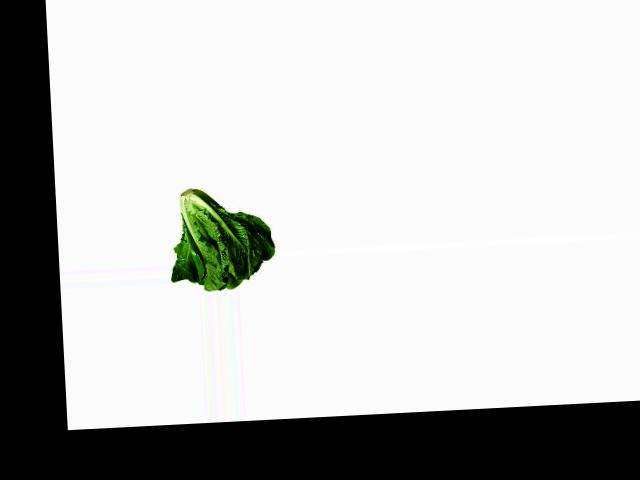lettuce: (168, 179, 278, 293)
